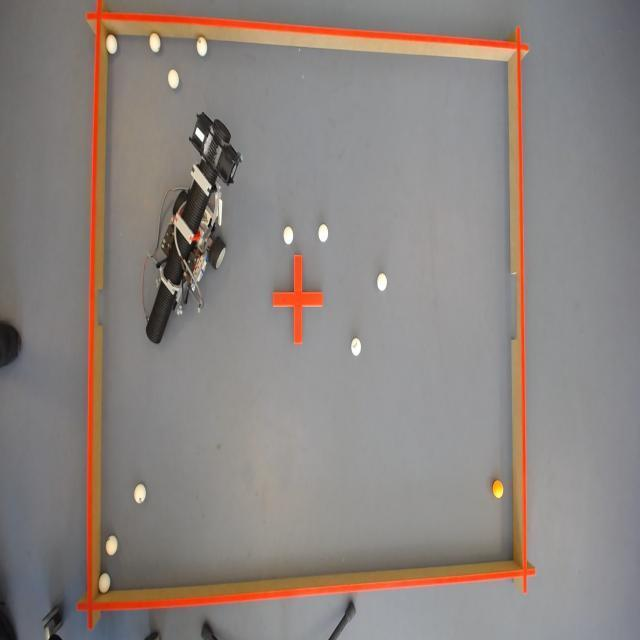orange: (491, 475, 504, 500)
robot: (147, 114, 235, 338)
white: (133, 483, 146, 505), (148, 34, 162, 53), (106, 534, 118, 556), (282, 224, 295, 244), (348, 336, 361, 356), (98, 571, 109, 594), (315, 222, 327, 242), (168, 66, 178, 89), (376, 271, 388, 290), (196, 37, 207, 57), (107, 34, 117, 55)
